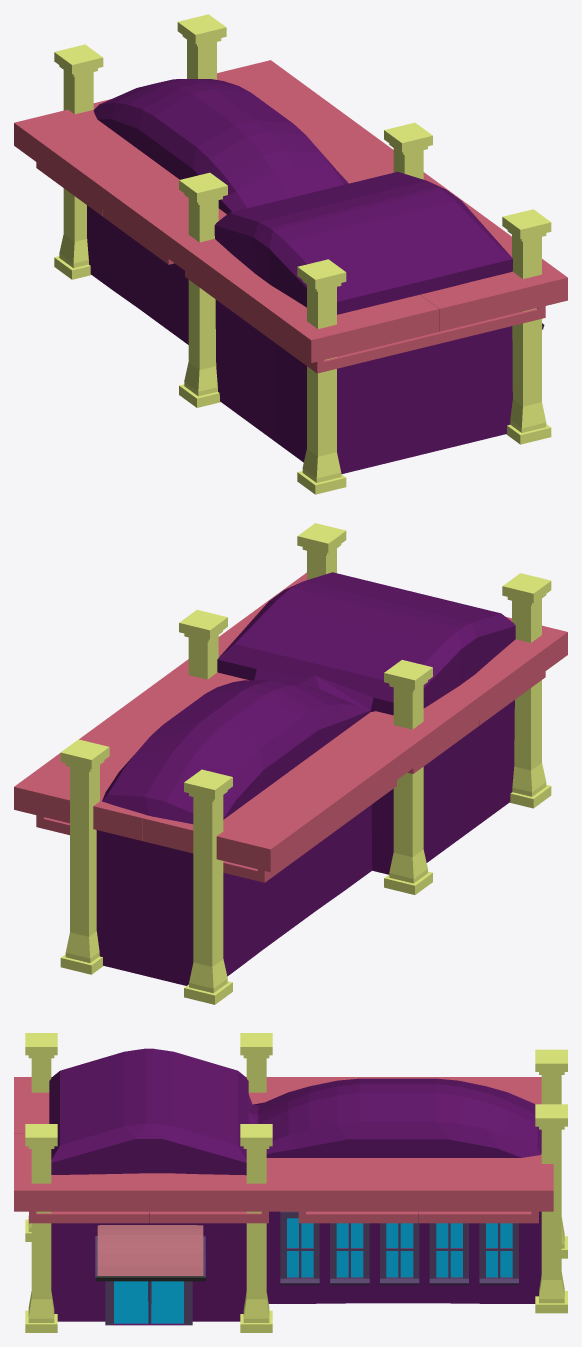
The model's file is sea_bakarij.fbx.
The picture shows the model from 3 angles, top to bottom: view 1: azimuth 30°, elevation 25°; view 2: azimuth 150°, elevation 25°; view 3: azimuth 270°, elevation 25°; orthographic projection. The views are drawn at different scales.
Parts seen in each view (by area): view 1: Cube, Cube.001, Cube.004, Cube.002, Cube.005, Cube.008, Cube.007, Cube.003; view 2: Cube, Cube.001, Cube.008, Cube.007, Cube.005, Cube.004, Cube.003, Cube.002; view 3: Cube, Cube.001, Cube.009, Cube.006, Cube.007, Cube.002, Cube.003, Cube.008, Cube.004, Cube.005.
Boxes of the visible parts, x1=… form: Cube: x1=87, y1=79, x2=512, y2=473; Cube.001: x1=14, y1=60, x2=567, y2=373; Cube.004: x1=297, y1=259, x2=346, y2=494; Cube.002: x1=502, y1=209, x2=551, y2=444; Cube.005: x1=179, y1=172, x2=227, y2=407; Cube.008: x1=54, y1=44, x2=103, y2=279; Cube.007: x1=177, y1=14, x2=226, y2=79; Cube.003: x1=384, y1=122, x2=432, y2=179; Cube: x1=96, y1=572, x2=515, y2=985; Cube.001: x1=14, y1=572, x2=567, y2=882; Cube.008: x1=184, y1=769, x2=232, y2=1004; Cube.007: x1=60, y1=739, x2=109, y2=974; Cube.005: x1=384, y1=660, x2=432, y2=894; Cube.004: x1=502, y1=573, x2=551, y2=808; Cube.003: x1=179, y1=609, x2=227, y2=679; Cube.002: x1=297, y1=523, x2=346, y2=579; Cube: x1=49, y1=1048, x2=541, y2=1325; Cube.001: x1=14, y1=1077, x2=553, y2=1223; Cube.009: x1=280, y1=1211, x2=518, y2=1284; Cube.006: x1=95, y1=1225, x2=205, y2=1281; Cube.007: x1=535, y1=1104, x2=567, y2=1313; Cube.002: x1=25, y1=1124, x2=57, y2=1332; Cube.003: x1=240, y1=1124, x2=272, y2=1332; Cube.008: x1=535, y1=1049, x2=567, y2=1258; Cube.004: x1=25, y1=1033, x2=57, y2=1241; Cube.005: x1=240, y1=1033, x2=272, y2=1092.
Size of the model in its own units: 2931 by 2162 by 5565.
